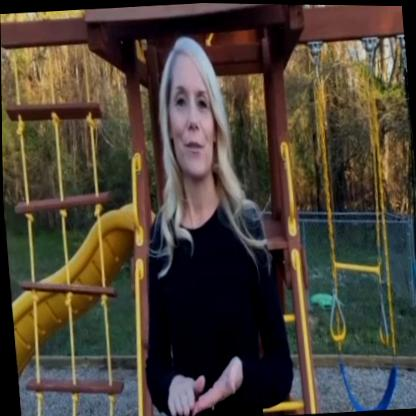ExcuseMe: (149, 326, 246, 416)
